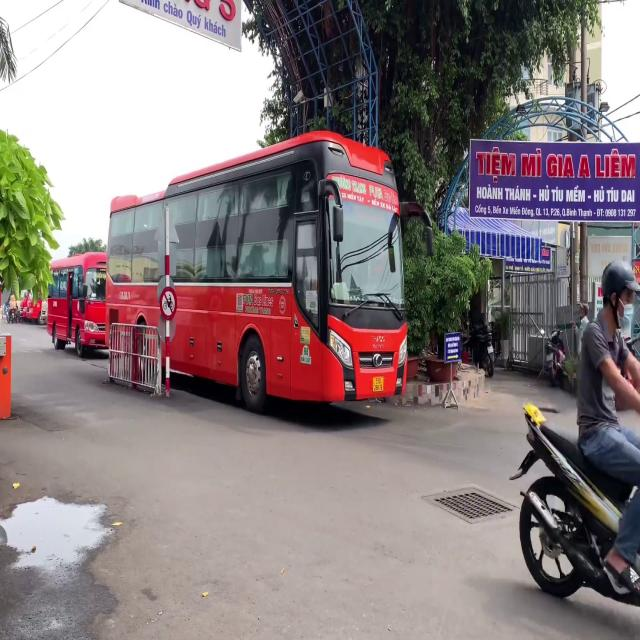bien_vang: (373, 376, 383, 391)
